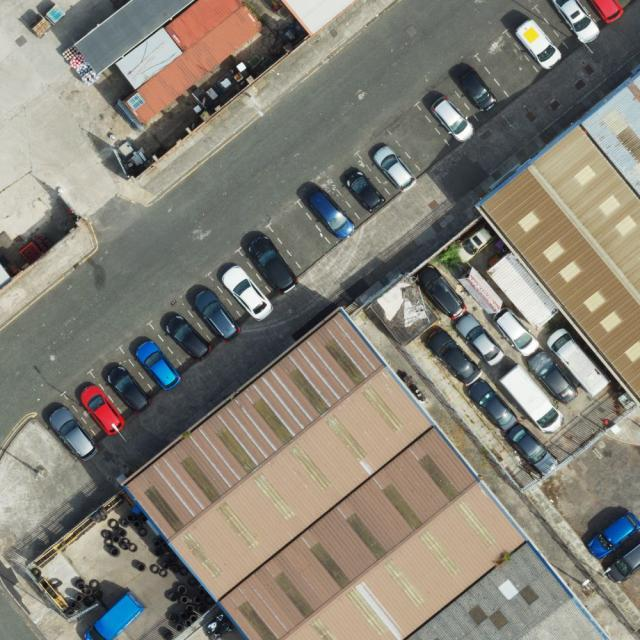roof: (124, 304, 610, 640), (482, 69, 640, 404), (74, 1, 264, 130), (281, 0, 357, 37)
solar: (128, 95, 144, 110)
